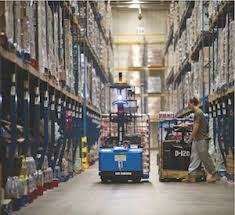Pallet Jack: (98, 82, 150, 183)
